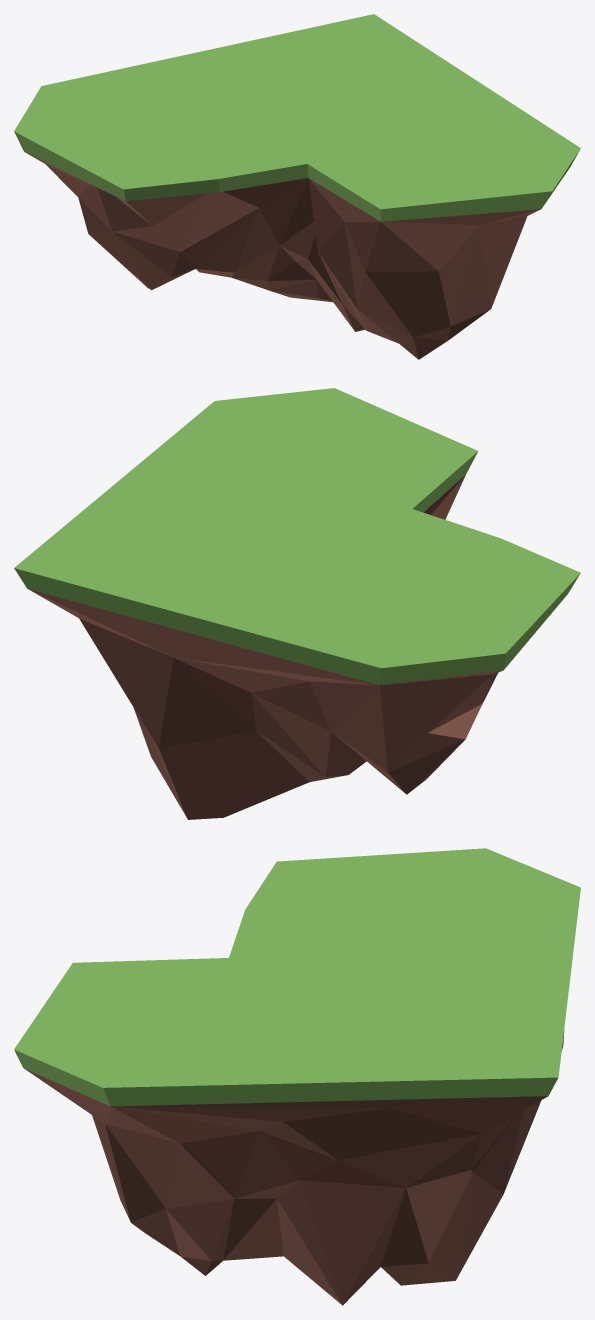
Rendered from Island2.fbx.
3 renders of one model, top to bottom at view 1: azimuth 30°, elevation 25°; view 2: azimuth 150°, elevation 25°; view 3: azimuth 270°, elevation 25°, orthographic. The views are drawn at different scales.
Parts seen in each view (by area): view 1: Island2; view 2: Island2; view 3: Island2.
Boxes of the visible parts, x1,y1,x2,y2 form: Island2: (14, 14, 580, 359); Island2: (14, 388, 580, 819); Island2: (14, 848, 580, 1305).
Size of the model in its own units: 3.83 by 2.03 by 3.83.
